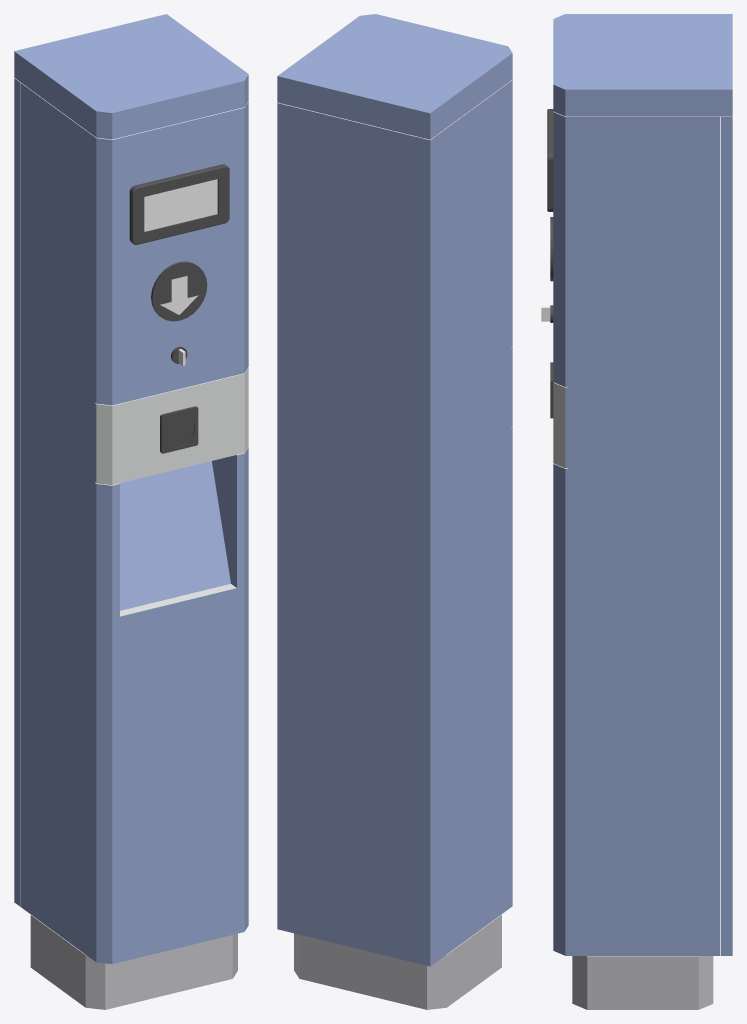
The model's file is 直流终端1.gltf.
3 views of the same model, side by side, from view 1: azimuth 30°, elevation 25°; view 2: azimuth 150°, elevation 25°; view 3: azimuth 270°, elevation 25° (orthographic).
Visible parts, largest first — view 1: |公交充电桩1装配体|Root|公交充电桩1-1|gloss_blue, |公交充电桩1装配体|Root|公交充电桩1-1|aluminum_powdercoat, |公交充电桩1装配体|Root|公交充电桩1-1|metallic_cool_grey, |公交充电桩1装配体|Root|公交充电桩1-1|black_high_gloss_plastic, |公交充电桩1装配体|Root|公交充电桩1-1|black_high_gloss_plastic-2, |公交充电桩1装配体|Root|公交充电桩1-1|white_led, |公交充电桩1装配体|Root|公交充电桩1-1|color; view 2: |公交充电桩1装配体|Root|公交充电桩1-1|gloss_blue, |公交充电桩1装配体|Root|公交充电桩1-1|metallic_cool_grey, |公交充电桩1装配体|Root|公交充电桩1-1|color; view 3: |公交充电桩1装配体|Root|公交充电桩1-1|gloss_blue, |公交充电桩1装配体|Root|公交充电桩1-1|metallic_cool_grey, |公交充电桩1装配体|Root|公交充电桩1-1|aluminum_powdercoat, |公交充电桩1装配体|Root|公交充电桩1-1|black_high_gloss_plastic.
Boxes of the visible parts, box(x1,y1,x2,y2) form: |公交充电桩1装配体|Root|公交充电桩1-1|gloss_blue: box(14, 14, 248, 964); |公交充电桩1装配体|Root|公交充电桩1-1|aluminum_powdercoat: box(96, 367, 248, 616); |公交充电桩1装配体|Root|公交充电桩1-1|metallic_cool_grey: box(30, 915, 237, 1009); |公交充电桩1装配体|Root|公交充电桩1-1|black_high_gloss_plastic: box(129, 164, 229, 452); |公交充电桩1装配体|Root|公交充电桩1-1|black_high_gloss_plastic-2: box(151, 261, 207, 453); |公交充电桩1装配体|Root|公交充电桩1-1|white_led: box(144, 179, 217, 231); |公交充电桩1装配体|Root|公交充电桩1-1|color: box(14, 78, 248, 954); |公交充电桩1装配体|Root|公交充电桩1-1|gloss_blue: box(277, 14, 512, 966); |公交充电桩1装配体|Root|公交充电桩1-1|metallic_cool_grey: box(294, 915, 501, 1009); |公交充电桩1装配体|Root|公交充电桩1-1|color: box(278, 80, 512, 961); |公交充电桩1装配体|Root|公交充电桩1-1|gloss_blue: box(553, 14, 732, 955); |公交充电桩1装配体|Root|公交充电桩1-1|metallic_cool_grey: box(572, 956, 713, 1009); |公交充电桩1装配体|Root|公交充电桩1-1|aluminum_powdercoat: box(553, 383, 565, 467); |公交充电桩1装配体|Root|公交充电桩1-1|black_high_gloss_plastic: box(547, 109, 553, 418).
Size of the model in its own units: 0.3 by 1.7 by 0.32.
